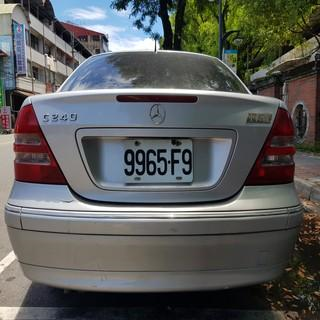license: (119, 147, 198, 184)
